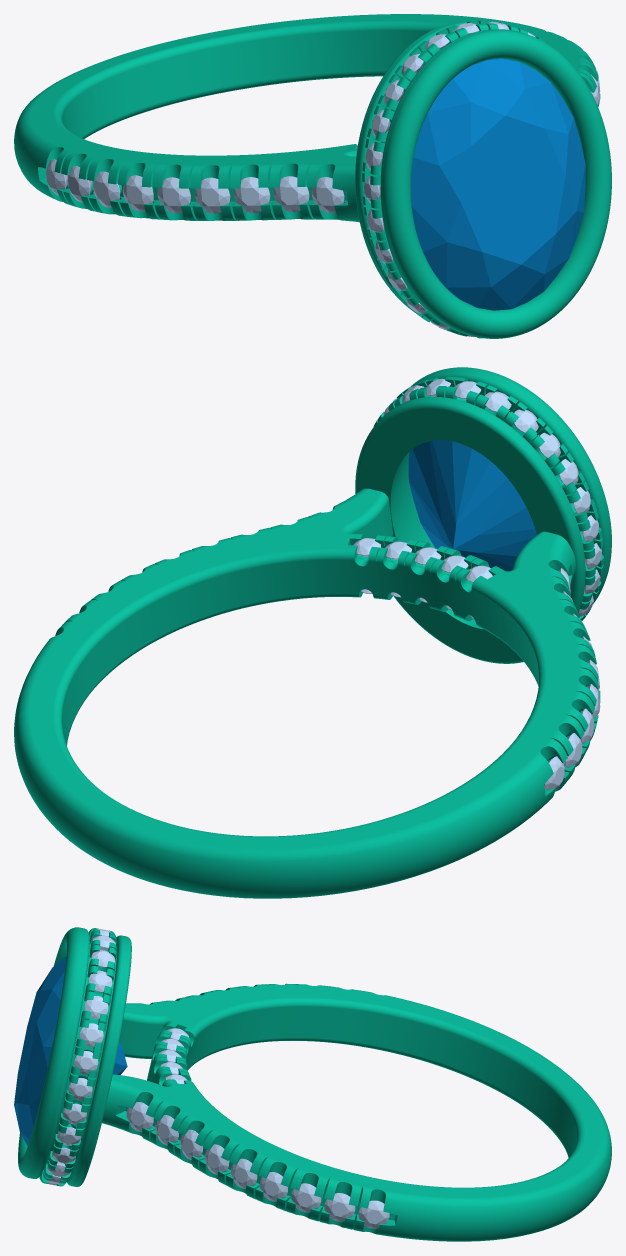
3 views of the same model, one above another, from view 1: azimuth 30°, elevation 25°; view 2: azimuth 150°, elevation 25°; view 3: azimuth 270°, elevation 25° (orthographic). The views are drawn at different scales.
Parts seen in each view (by area): view 1: RING.JTC.SRO6(base).3dm, Diamond_Oval, Diamond_Round (×9); view 2: RING.JTC.SRO6(base).3dm, Diamond_Oval; view 3: RING.JTC.SRO6(base).3dm, Diamond_Round (×9), Diamond_Oval.
Boxes of the visible parts, <box> form: RING.JTC.SRO6(base).3dm: <box>14,14,611,338</box>; Diamond_Oval: <box>411,58,585,310</box>; Diamond_Round (×9): <box>46,159,344,213</box>; RING.JTC.SRO6(base).3dm: <box>14,367,611,898</box>; Diamond_Oval: <box>408,440,536,571</box>; RING.JTC.SRO6(base).3dm: <box>18,927,611,1241</box>; Diamond_Round (×9): <box>126,1102,389,1228</box>; Diamond_Oval: <box>14,956,127,1146</box>.
Size of what is drawn, in the model's own units: 2.4 by 1.31 by 2.92.
